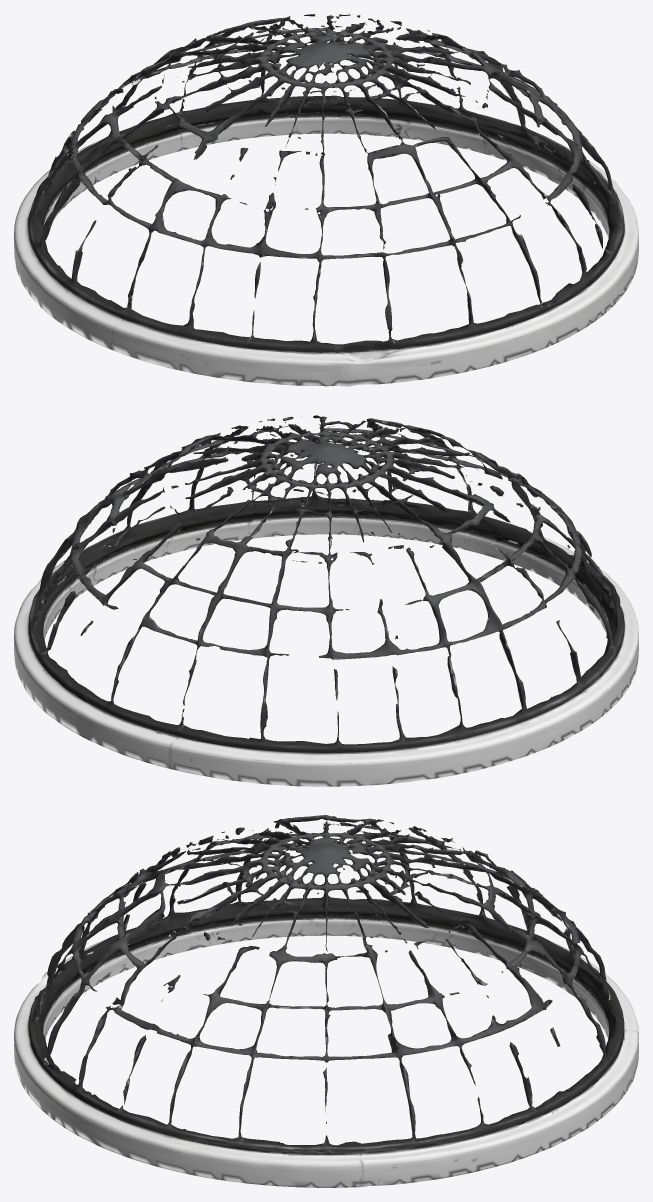
The model's file is Meshy_AI_Geodesic_Dome_Structu_0101004540_texture.fbx.
3 views of the same model, one above another, from view 1: azimuth 30°, elevation 25°; view 2: azimuth 150°, elevation 25°; view 3: azimuth 270°, elevation 25° (orthographic).
Parts seen in each view (by area): view 1: Mesh0; view 2: Mesh0; view 3: Mesh0.
Boxes of the visible parts, <box> form: Mesh0: <box>14,14,638,386</box>; Mesh0: <box>14,415,638,786</box>; Mesh0: <box>14,815,638,1187</box>.
Size of the model in its own units: 192 by 70.5 by 192.
1 material, 1 textured.
